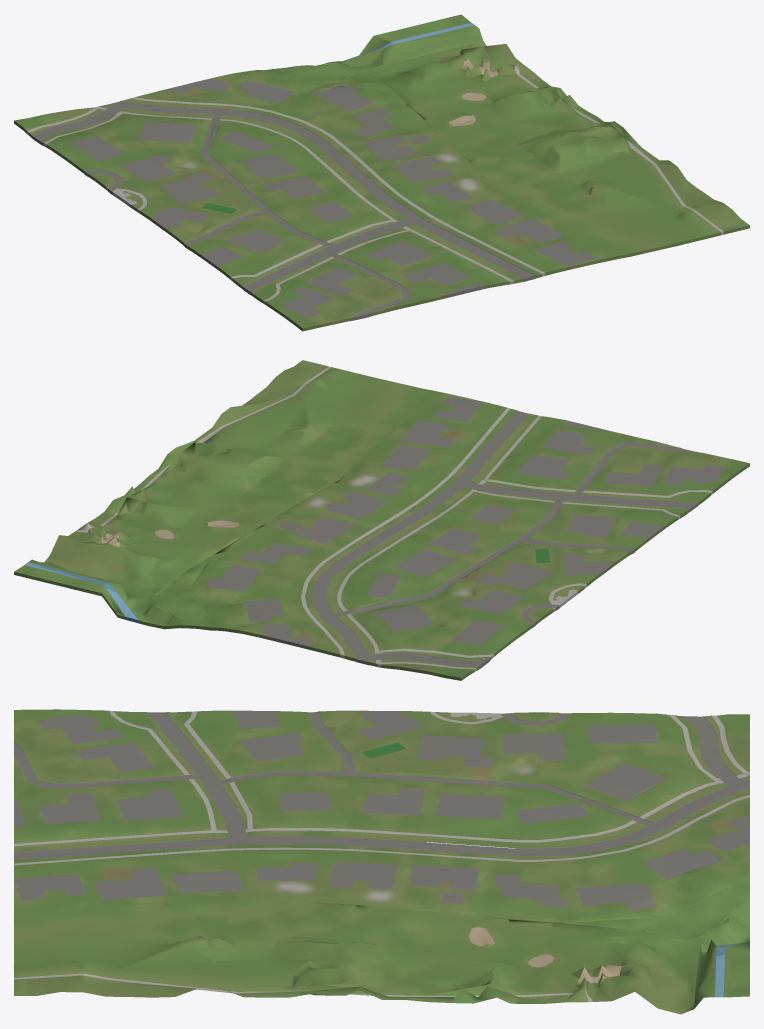
File: T-3--4.L1.ddde004b.glb
3 renders of one model, top to bottom at view 1: azimuth 30°, elevation 25°; view 2: azimuth 150°, elevation 25°; view 3: azimuth 270°, elevation 25°, orthographic. The views are drawn at different scales.
Parts seen in each view (by area): view 1: T-3--4.L1:utd:matte; view 2: T-3--4.L1:utd:matte, T-3--4.L1:utd:water; view 3: T-3--4.L1:utd:matte, T-3--4.L1:utd:water.
Part boxes in pixels (x1,y1,x2,y2): T-3--4.L1:utd:matte: (14, 14, 749, 331); T-3--4.L1:utd:matte: (14, 360, 749, 680); T-3--4.L1:utd:water: (25, 562, 138, 620); T-3--4.L1:utd:matte: (14, 709, 749, 1014); T-3--4.L1:utd:water: (715, 942, 746, 997).
Size of the model in its own units: 229 by 13.81 by 256.
